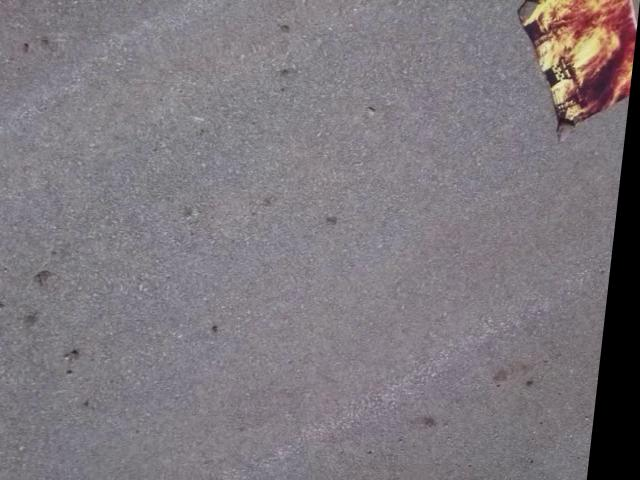fire-poster: (504, 1, 640, 144)
